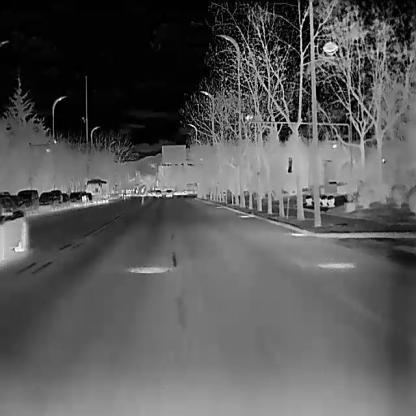car: (0, 194, 27, 254), (85, 177, 107, 202), (19, 188, 39, 212), (39, 192, 58, 211), (71, 193, 86, 207), (56, 193, 69, 207), (165, 189, 173, 197), (154, 190, 161, 199)
